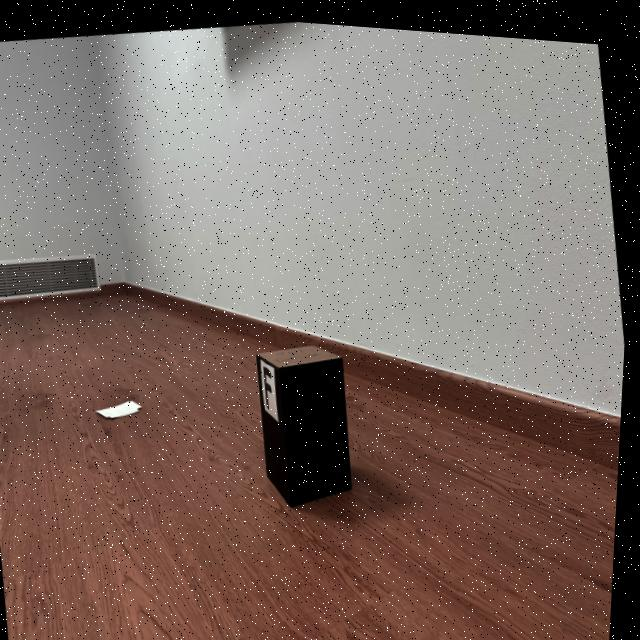F: (267, 362, 276, 405)
